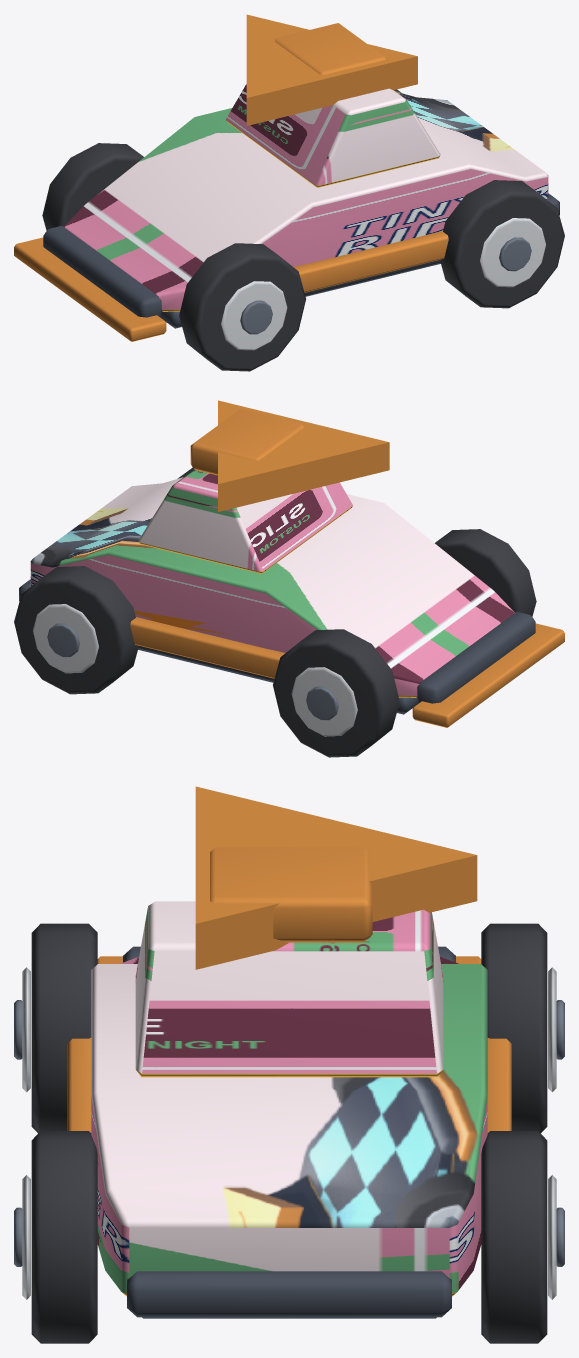
3 views of the same model, one above another, from view 1: azimuth 30°, elevation 25°; view 2: azimuth 150°, elevation 25°; view 3: azimuth 270°, elevation 25° (orthographic). The views are drawn at different scales.
Visible parts, largest first — view 1: SS-02_connected_shell, SS-02_cabin, flat pizza wedge, Tire, Tire.002, Tire.001, custom chin, custom side guard, front bumper, custom equipment, Rim, Rim.002 (+3 smaller); view 2: SS-02_connected_shell, SS-02_cabin, flat pizza wedge, Tire.001, Tire.003, Tire, custom chin, custom side guard.001, custom equipment, front bumper, Rim.001, Rim.003 (+3 smaller); view 3: SS-02_connected_shell, SS-02_cabin, flat pizza wedge, rear bumper, Tire.002, Tire.003, custom equipment, Tire, Tire.001, custom side guard, custom side guard.001, Rim (+3 smaller).
Part boxes in pixels (<box>): SS-02_connected_shell: <box>64,91,548,311</box>; SS-02_cabin: <box>226,84,440,187</box>; flat pizza wedge: <box>246,14,417,125</box>; Tire: <box>179,243,305,371</box>; Tire.002: <box>440,180,564,308</box>; Tire.001: <box>42,143,143,230</box>; custom chin: <box>14,237,166,341</box>; custom side guard: <box>293,231,448,292</box>; front bumper: <box>43,226,162,317</box>; custom equipment: <box>274,23,386,74</box>; Rim: <box>221,281,287,350</box>; Rim.002: <box>480,218,545,287</box>; SS-02_connected_shell: <box>30,477,514,697</box>; SS-02_cabin: <box>138,469,352,573</box>; flat pizza wedge: <box>218,400,389,511</box>; Tire.001: <box>273,629,399,757</box>; Tire.003: <box>14,566,138,694</box>; Tire: <box>435,529,536,616</box>; custom chin: <box>412,623,564,727</box>; custom side guard.001: <box>130,617,285,678</box>; custom equipment: <box>190,409,304,475</box>; front bumper: <box>416,612,535,703</box>; Rim.001: <box>291,667,357,736</box>; Rim.003: <box>33,604,98,673</box>; SS-02_connected_shell: <box>91,957,487,1296</box>; SS-02_cabin: <box>135,901,443,1077</box>; flat pizza wedge: <box>195,786,477,969</box>; rear bumper: <box>127,1271,451,1317</box>; Tire.002: <box>31,1131,97,1343</box>; Tire.003: <box>481,1131,547,1343</box>; custom equipment: <box>210,847,372,942</box>; Tire: <box>31,923,97,1133</box>; Tire.001: <box>481,923,547,1133</box>; custom side guard: <box>67,1038,91,1132</box>; custom side guard.001: <box>487,1038,511,1132</box>; Rim: <box>22,967,30,1092</box>.
Bounding box in the file's own units: 330 × 165 × 217.
